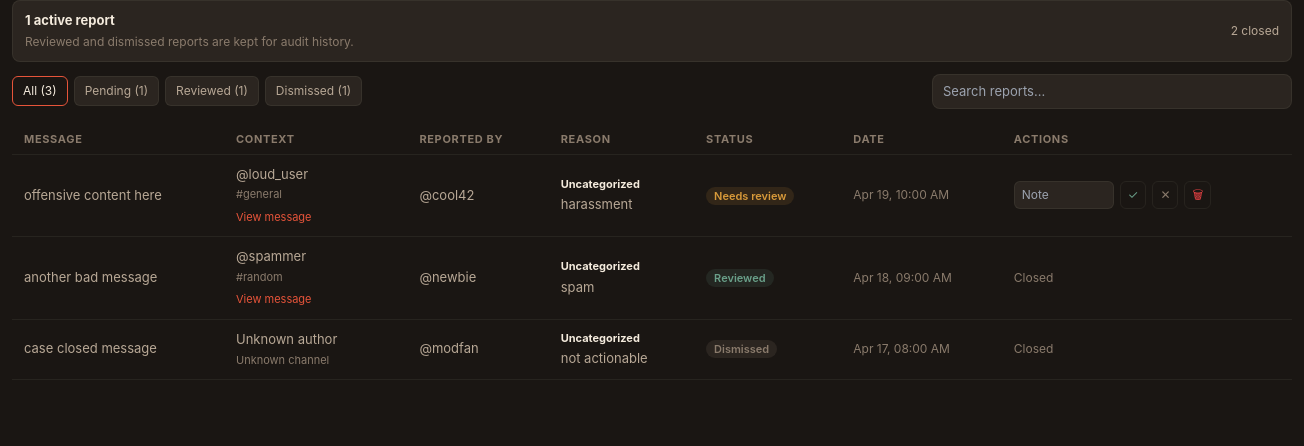
Test: ReportsTable — actions › shows success feedback after marking a report reviewed
Click the button titled "mark reviewed" at (1133, 195), box [1120,181,1146,209]
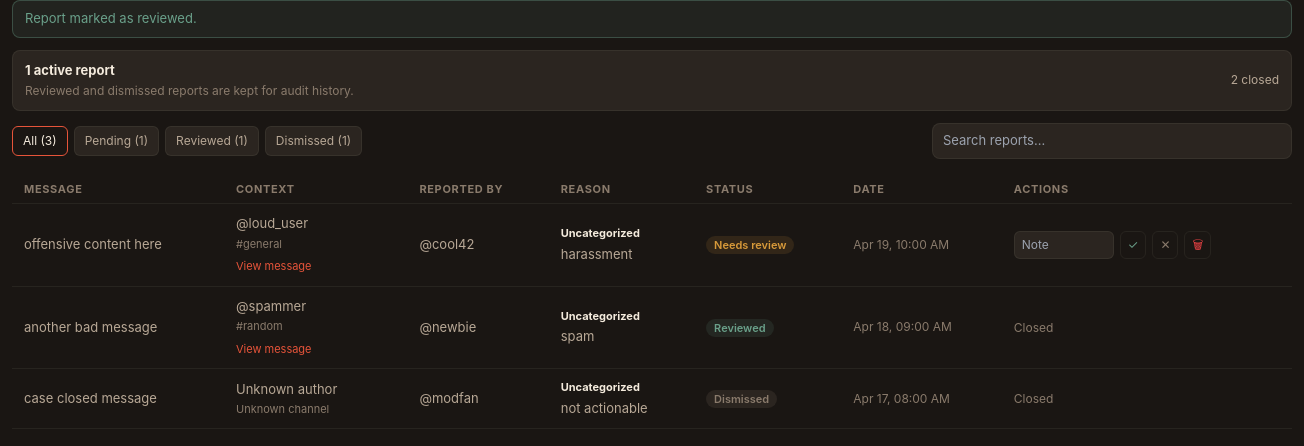
Check: the text "Report marked as reviewed." is shown, box [12,0,1292,38]
